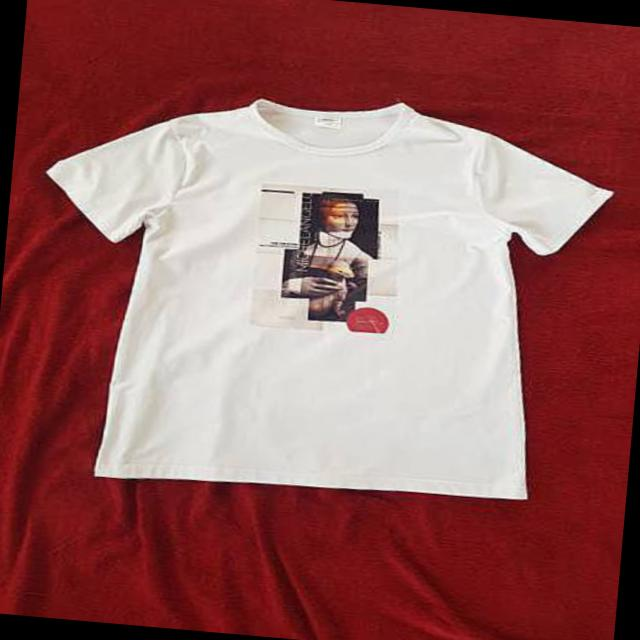T_SHIRT: (10, 59, 632, 532)
